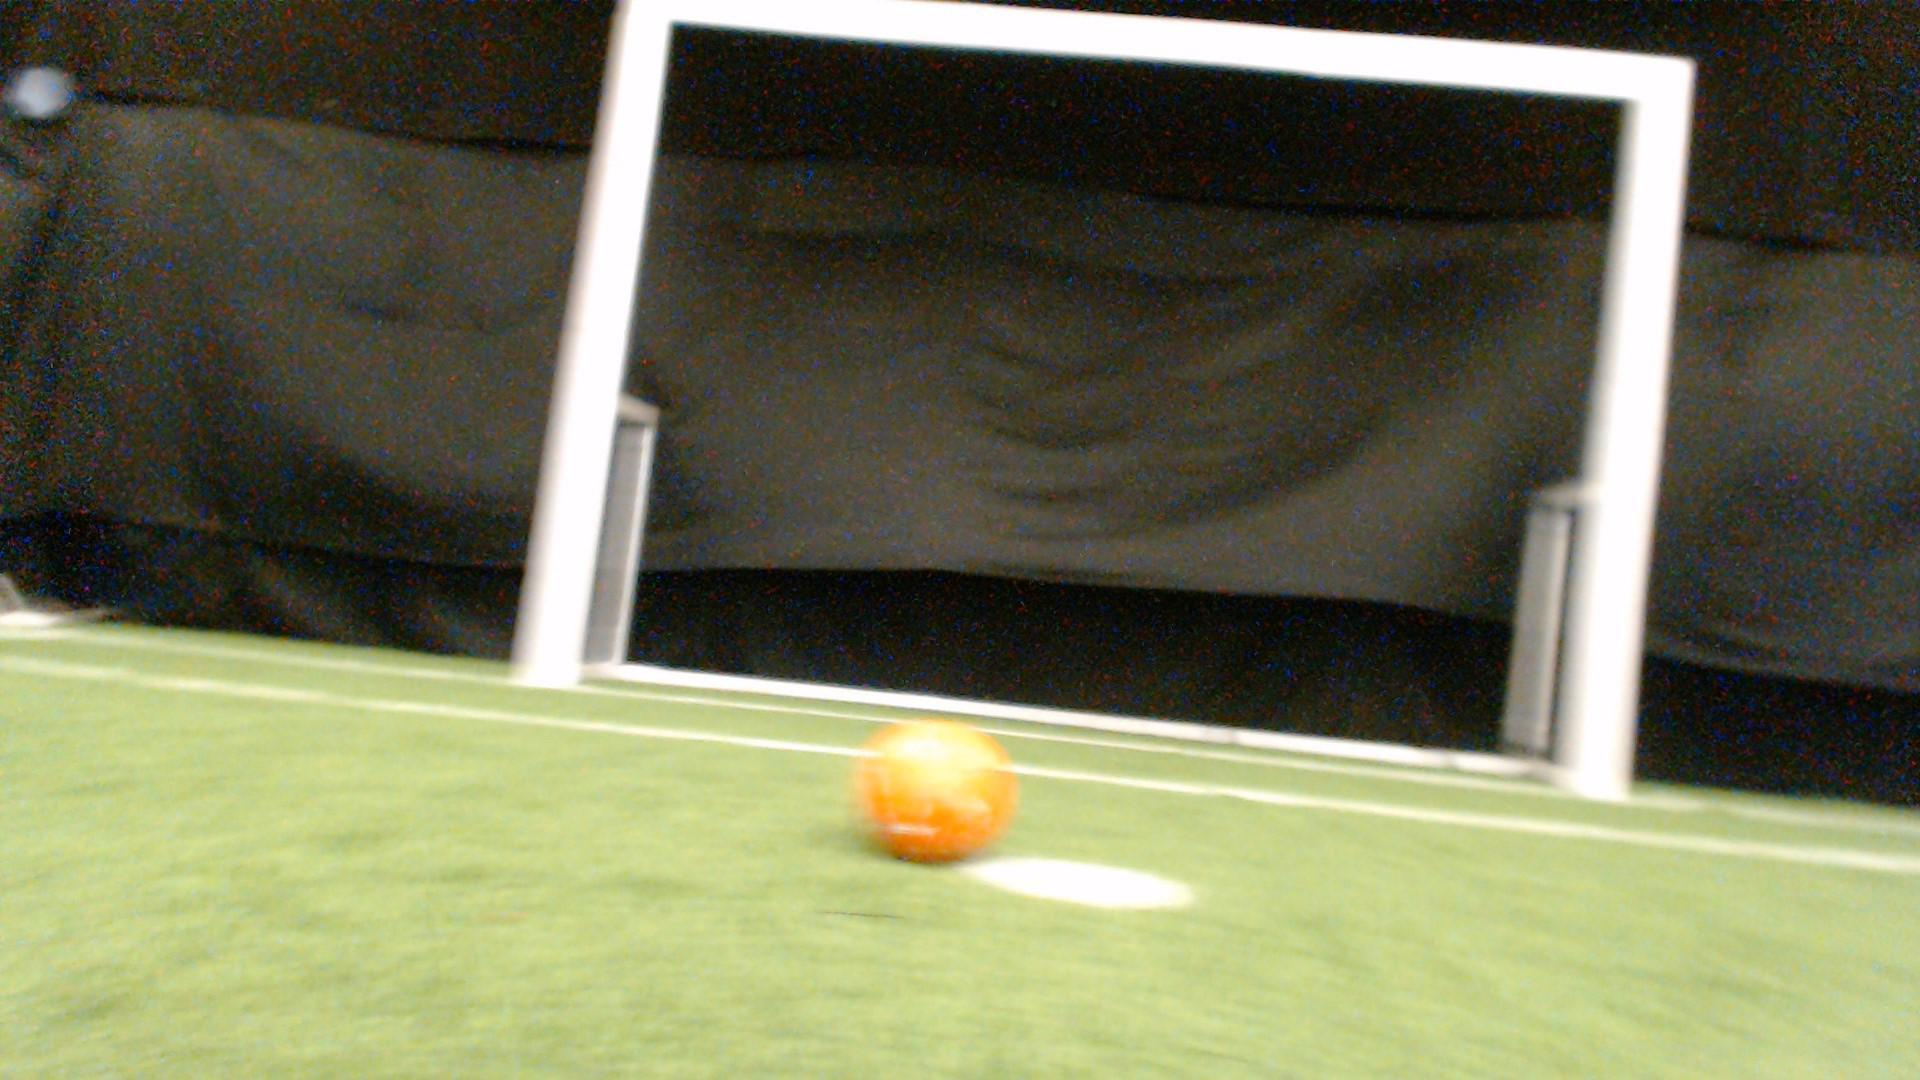bola: (837, 688, 1034, 881)
